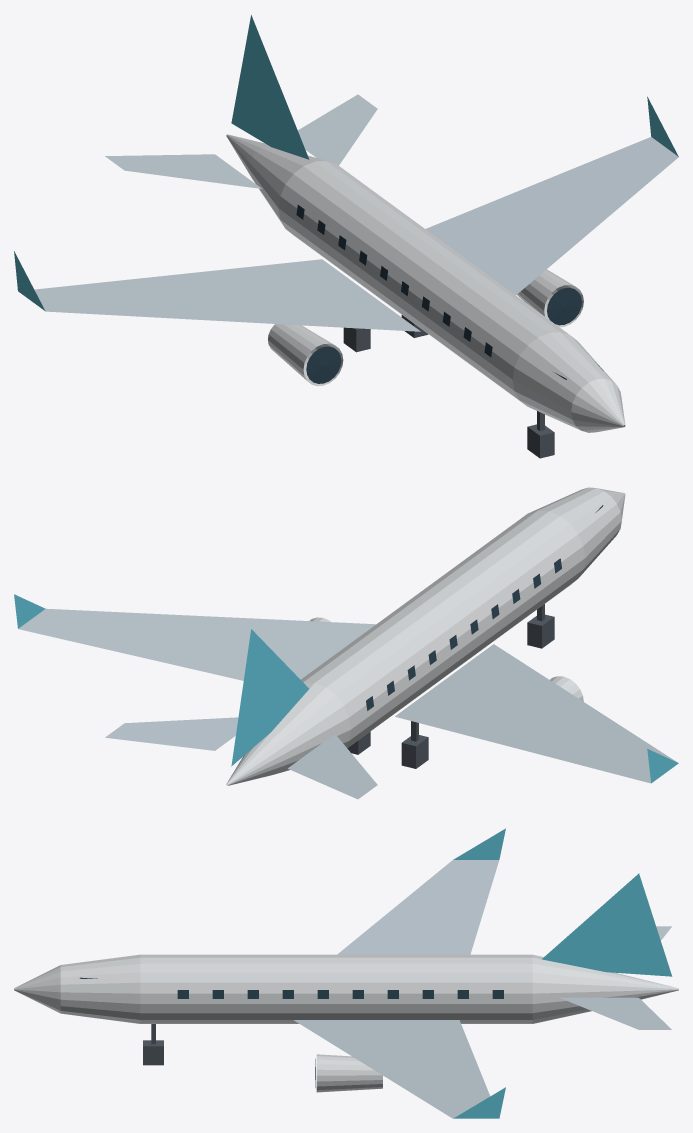
File: a320-KLM.gltf
The picture shows the model from 3 angles, top to bottom: view 1: azimuth 30°, elevation 25°; view 2: azimuth 150°, elevation 25°; view 3: azimuth 270°, elevation 25°; orthographic projection. The views are drawn at different scales.
Parts seen in each view (by area): view 1: object 1, Gear; view 2: object 1, Gear; view 3: object 1, Gear.
Part boxes in pixels (bbox=[...]): object 1: bbox=[14, 15, 678, 432]; Gear: bbox=[343, 315, 554, 458]; object 1: bbox=[14, 487, 678, 799]; Gear: bbox=[347, 604, 554, 768]; object 1: bbox=[14, 828, 678, 1118]; Gear: bbox=[143, 1024, 163, 1065].
Bounding box in the file's own units: 35 × 11.92 × 38.
